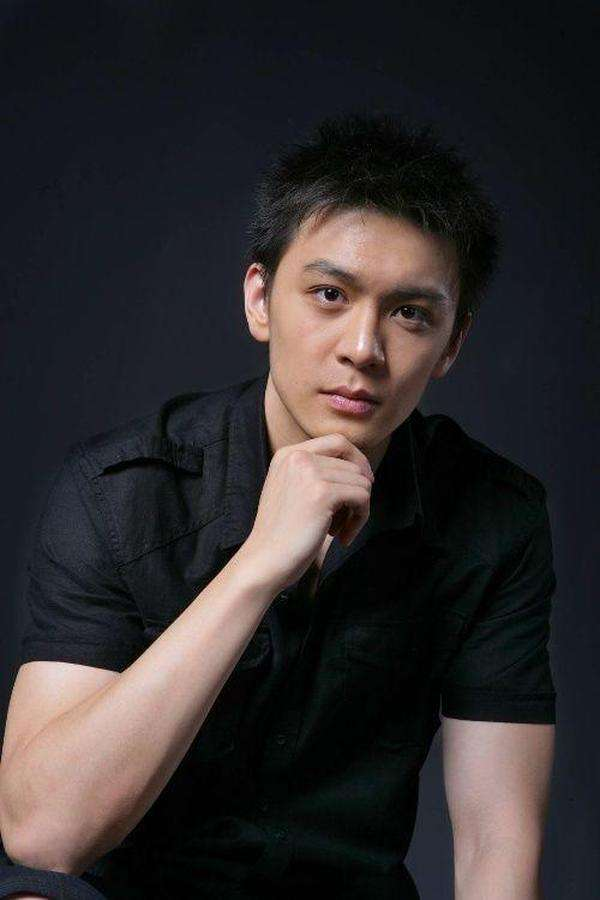person: (156, 128, 538, 849)
